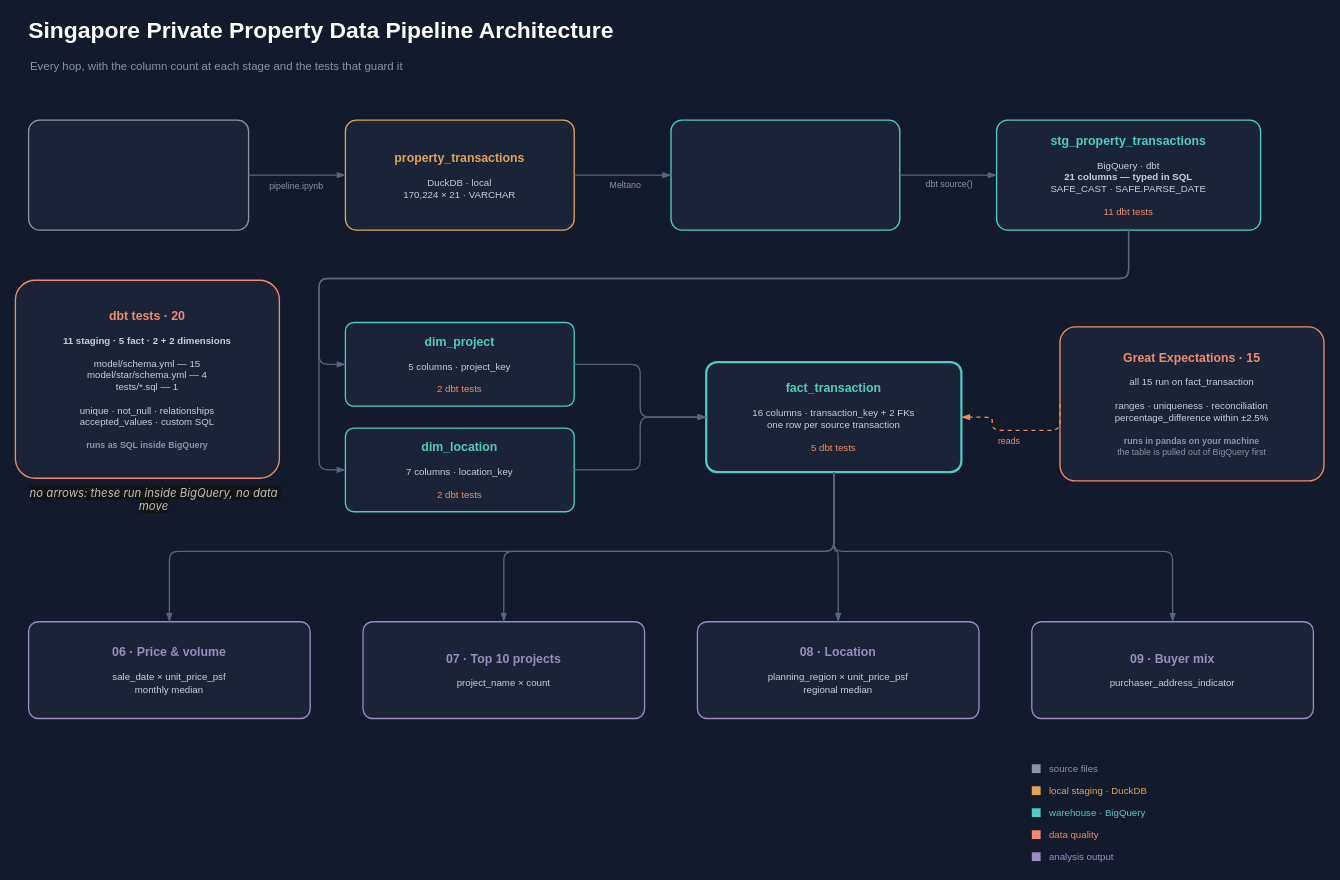
Some shapes in this 1340 by 880 pixel diagram are drawn without their labels. Here are the shapes that lost their labels. From the top down, the centre of each, then its label:
[138,174]: 19 CSV files Data/Raw_data/ 21 cols · text 170,224 rows
[785,174]: raw_property_trans BigQuery 21 cols · still text
